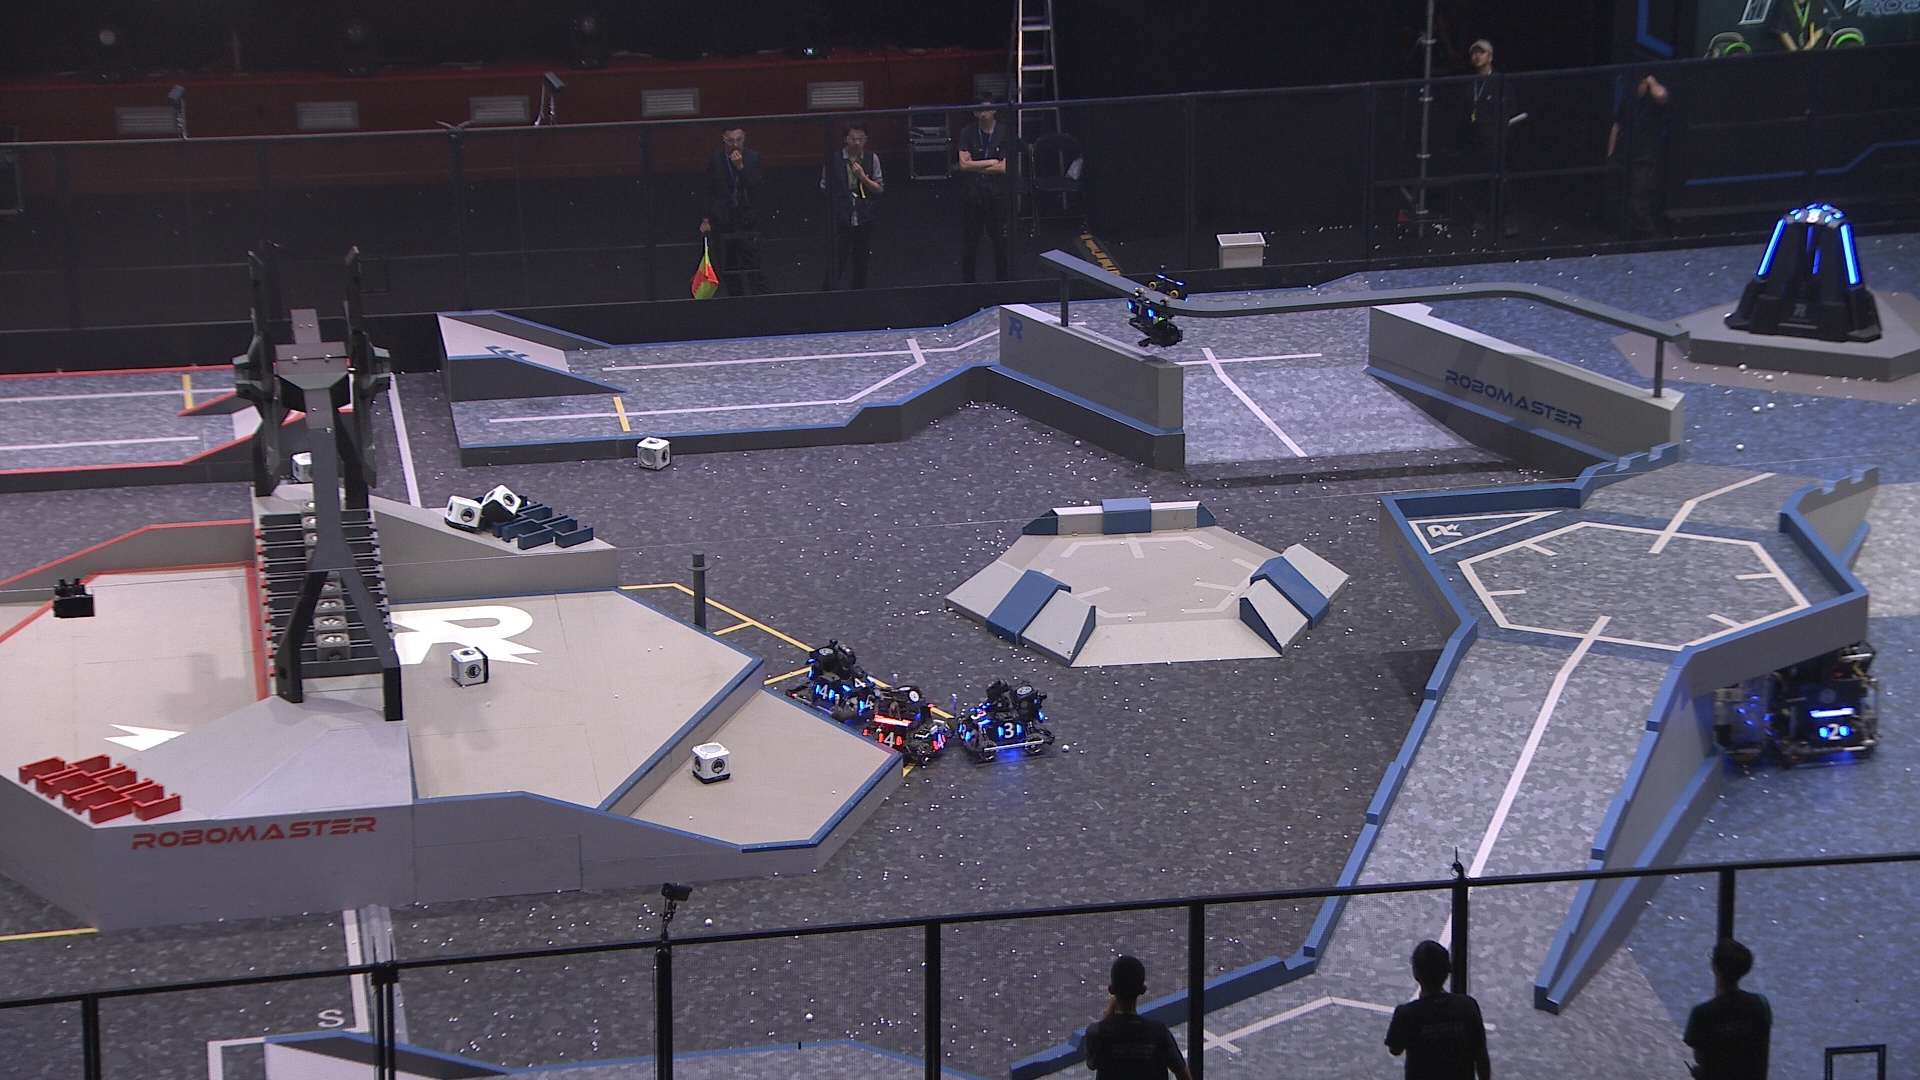armor: (1755, 215, 1785, 276), (1840, 222, 1861, 284), (1793, 207, 1836, 224), (1817, 723, 1849, 744), (1124, 299, 1155, 320), (876, 731, 906, 750), (841, 673, 872, 692), (811, 680, 836, 703), (856, 695, 878, 712), (998, 723, 1025, 737), (931, 732, 949, 752), (969, 703, 986, 723), (953, 723, 971, 741)
base: (1726, 195, 1884, 342)
car: (1724, 626, 1888, 767), (953, 675, 1060, 766), (858, 675, 957, 769), (782, 640, 884, 727)
watcher: (1121, 270, 1191, 348)
